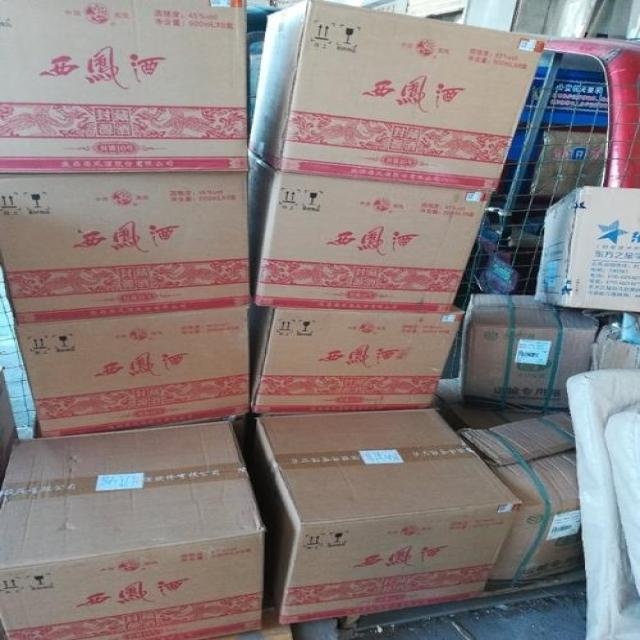box: (0, 416, 266, 638), (244, 409, 524, 616), (243, 1, 546, 192), (3, 0, 249, 173), (248, 144, 493, 311), (2, 167, 250, 325), (435, 376, 582, 580), (14, 309, 250, 432), (254, 303, 465, 409), (464, 295, 604, 409), (539, 187, 639, 314), (536, 127, 604, 202), (547, 1, 636, 39), (467, 1, 551, 37), (2, 365, 22, 496), (400, 2, 467, 27), (357, 1, 406, 10)
